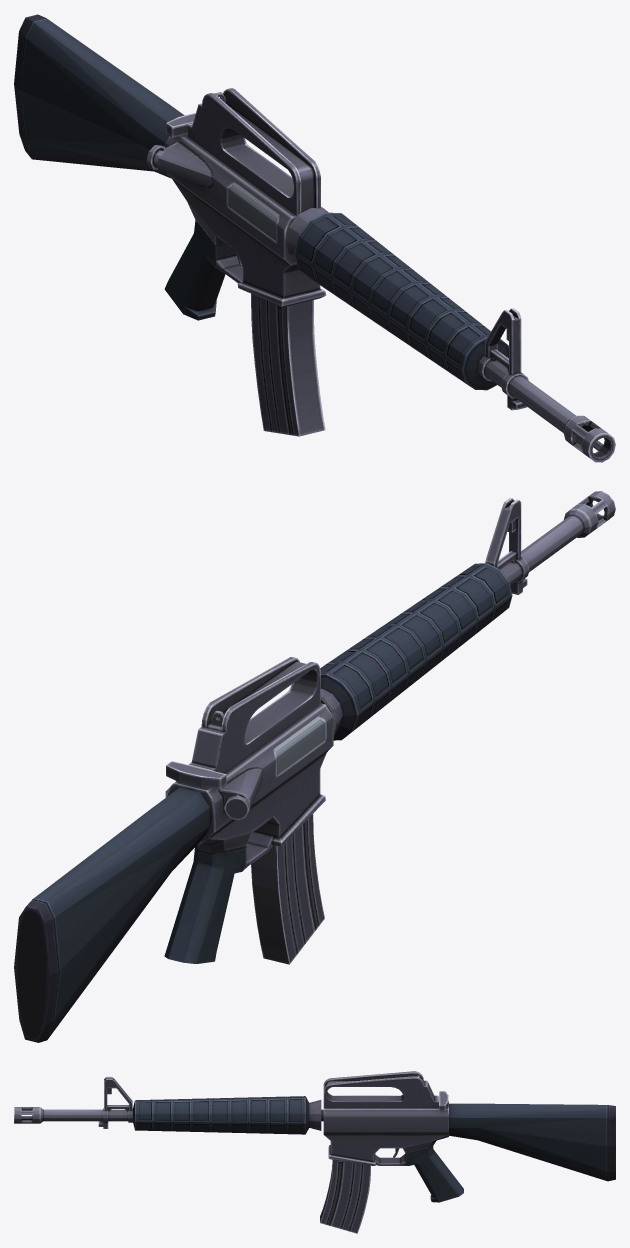
File: Gun M16A2 N241019.obj
3 views of the same model, one above another, from view 1: azimuth 30°, elevation 25°; view 2: azimuth 150°, elevation 25°; view 3: azimuth 270°, elevation 25° (orthographic). The views are drawn at different scales.
Visible parts, largest first — view 1: Body, Magazine, Slider_Eject; view 2: Body, Magazine, Slider_Eject, Reload_Slider; view 3: Body, Magazine.
Boxes of the visible parts, bbox=[...] form: Body: bbox=[14, 14, 615, 462]; Magazine: bbox=[251, 293, 325, 436]; Slider_Eject: bbox=[227, 184, 278, 241]; Body: bbox=[14, 491, 615, 1042]; Magazine: bbox=[251, 814, 324, 964]; Slider_Eject: bbox=[274, 718, 325, 775]; Reload_Slider: bbox=[166, 761, 226, 789]; Body: bbox=[14, 1071, 615, 1202]; Magazine: bbox=[320, 1159, 370, 1233].
Bounding box in the file's own units: 11.02 × 37.53 × 131.
